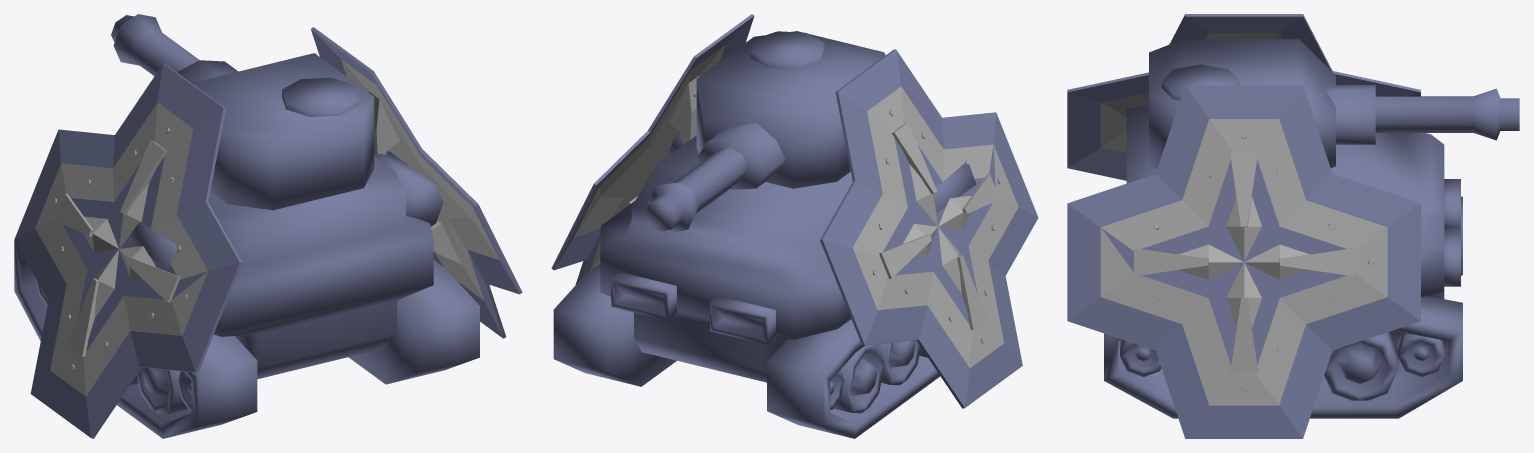
The model's file is TankArmor.fbx.
3 views of the same model, side by side, from view 1: azimuth 30°, elevation 25°; view 2: azimuth 150°, elevation 25°; view 3: azimuth 270°, elevation 25° (orthographic). The views are drawn at different scales.
Parts seen in each view (by area): view 1: TankArmor; view 2: TankArmor; view 3: TankArmor.
Part boxes in pixels (left/top/right/bottom): TankArmor: left=14, top=14, right=522, bottom=438; TankArmor: left=551, top=14, right=1038, bottom=438; TankArmor: left=1067, top=14, right=1519, bottom=438.
Size of the model in its own units: 1.4 by 1 by 1.36.
